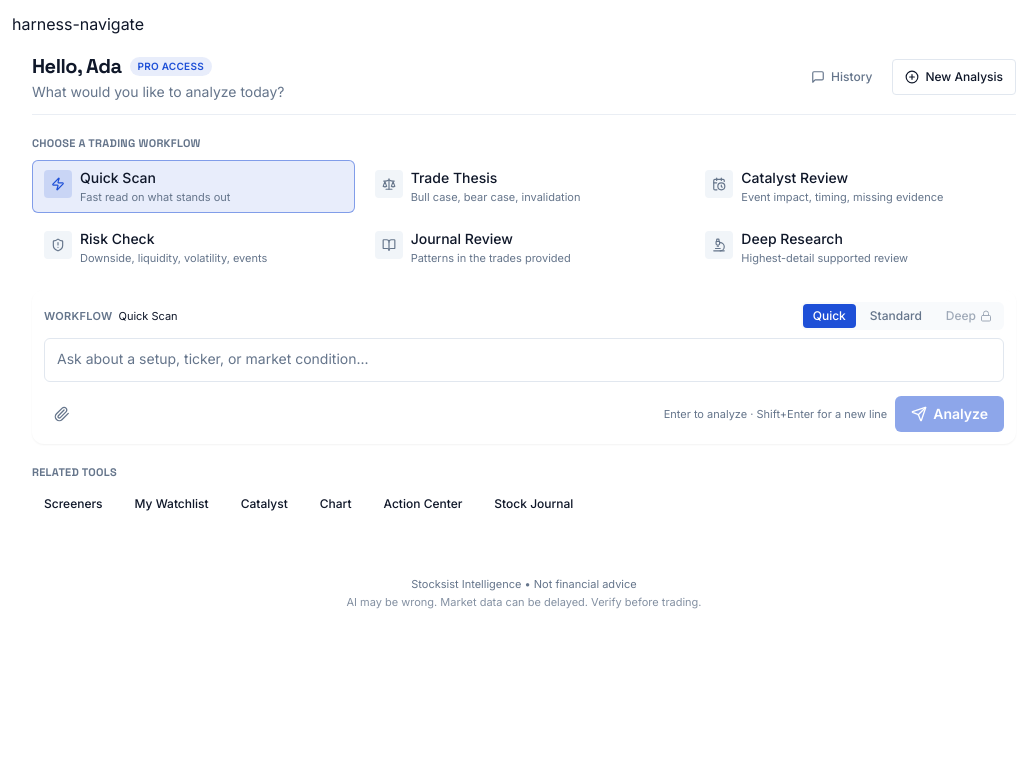
Test: AI Analyst — request lifecycle › a rejected streamChat clears analyzing state and surfaces a retryable failure
Type "How does AAPL look?" into the text box with placeholder "Ask about a setup, ticker, or market condition..." at (524, 360), box [44,338,1004,382]
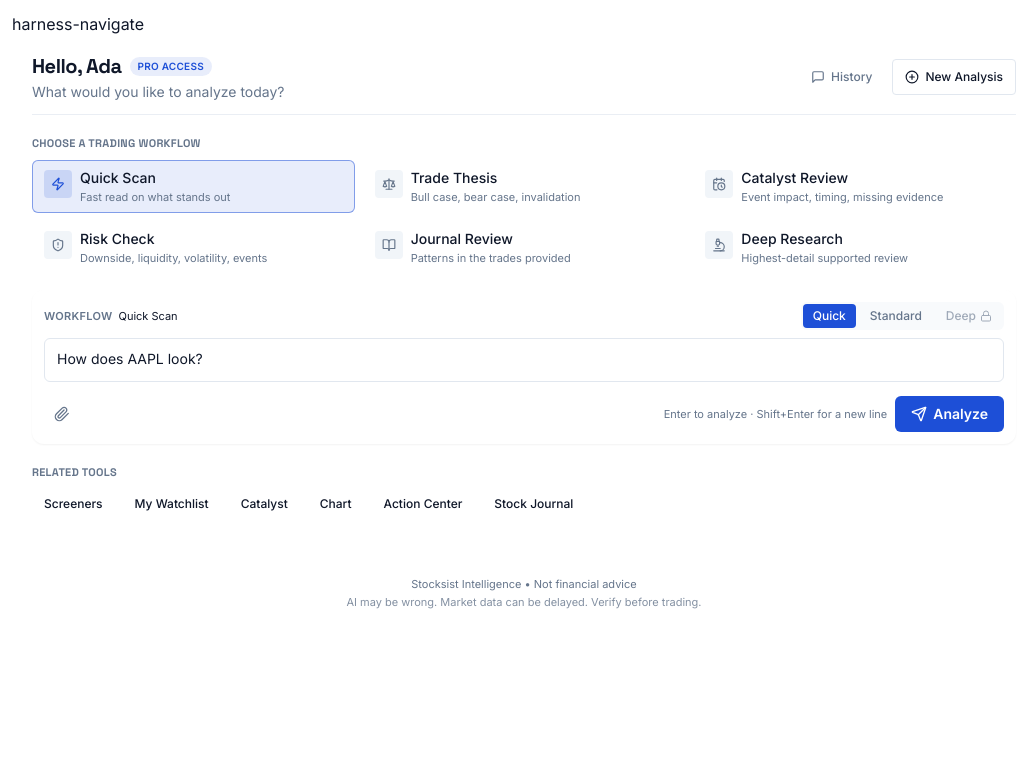
Press Enter in the text box with placeholder "Ask about a setup, ticker, or market condition...", box [44,338,1004,382]
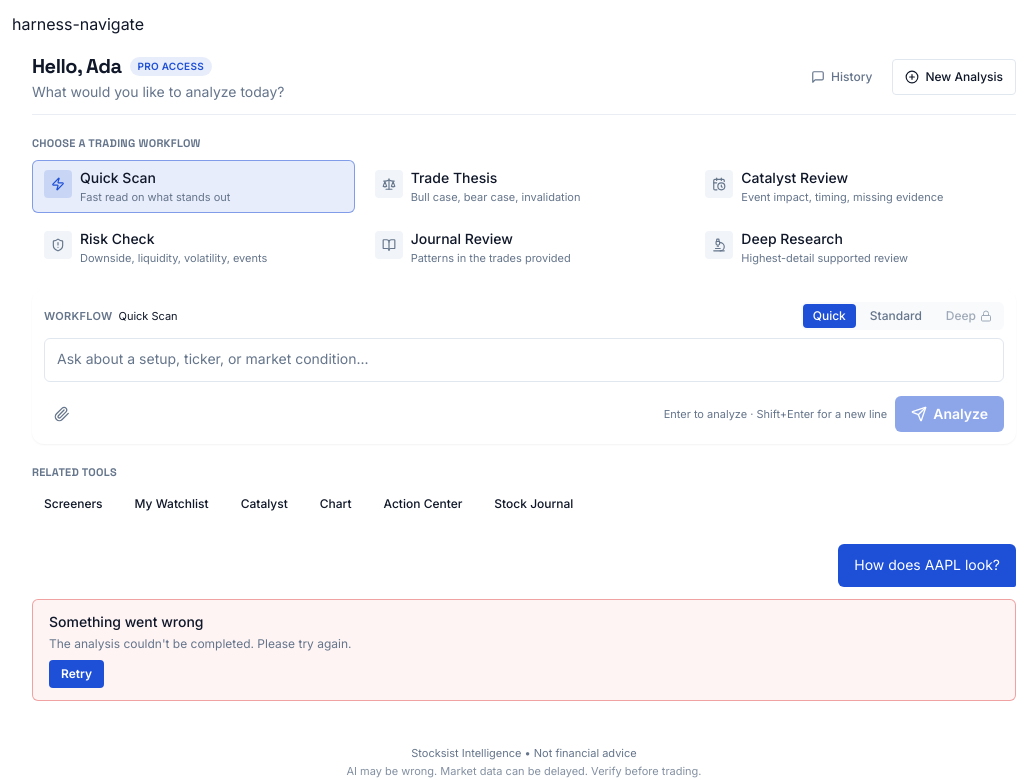
Now the text "Something went wrong" is shown, box [49,613,204,630]
Now the button "Retry" is enabled, box [49,660,104,688]
